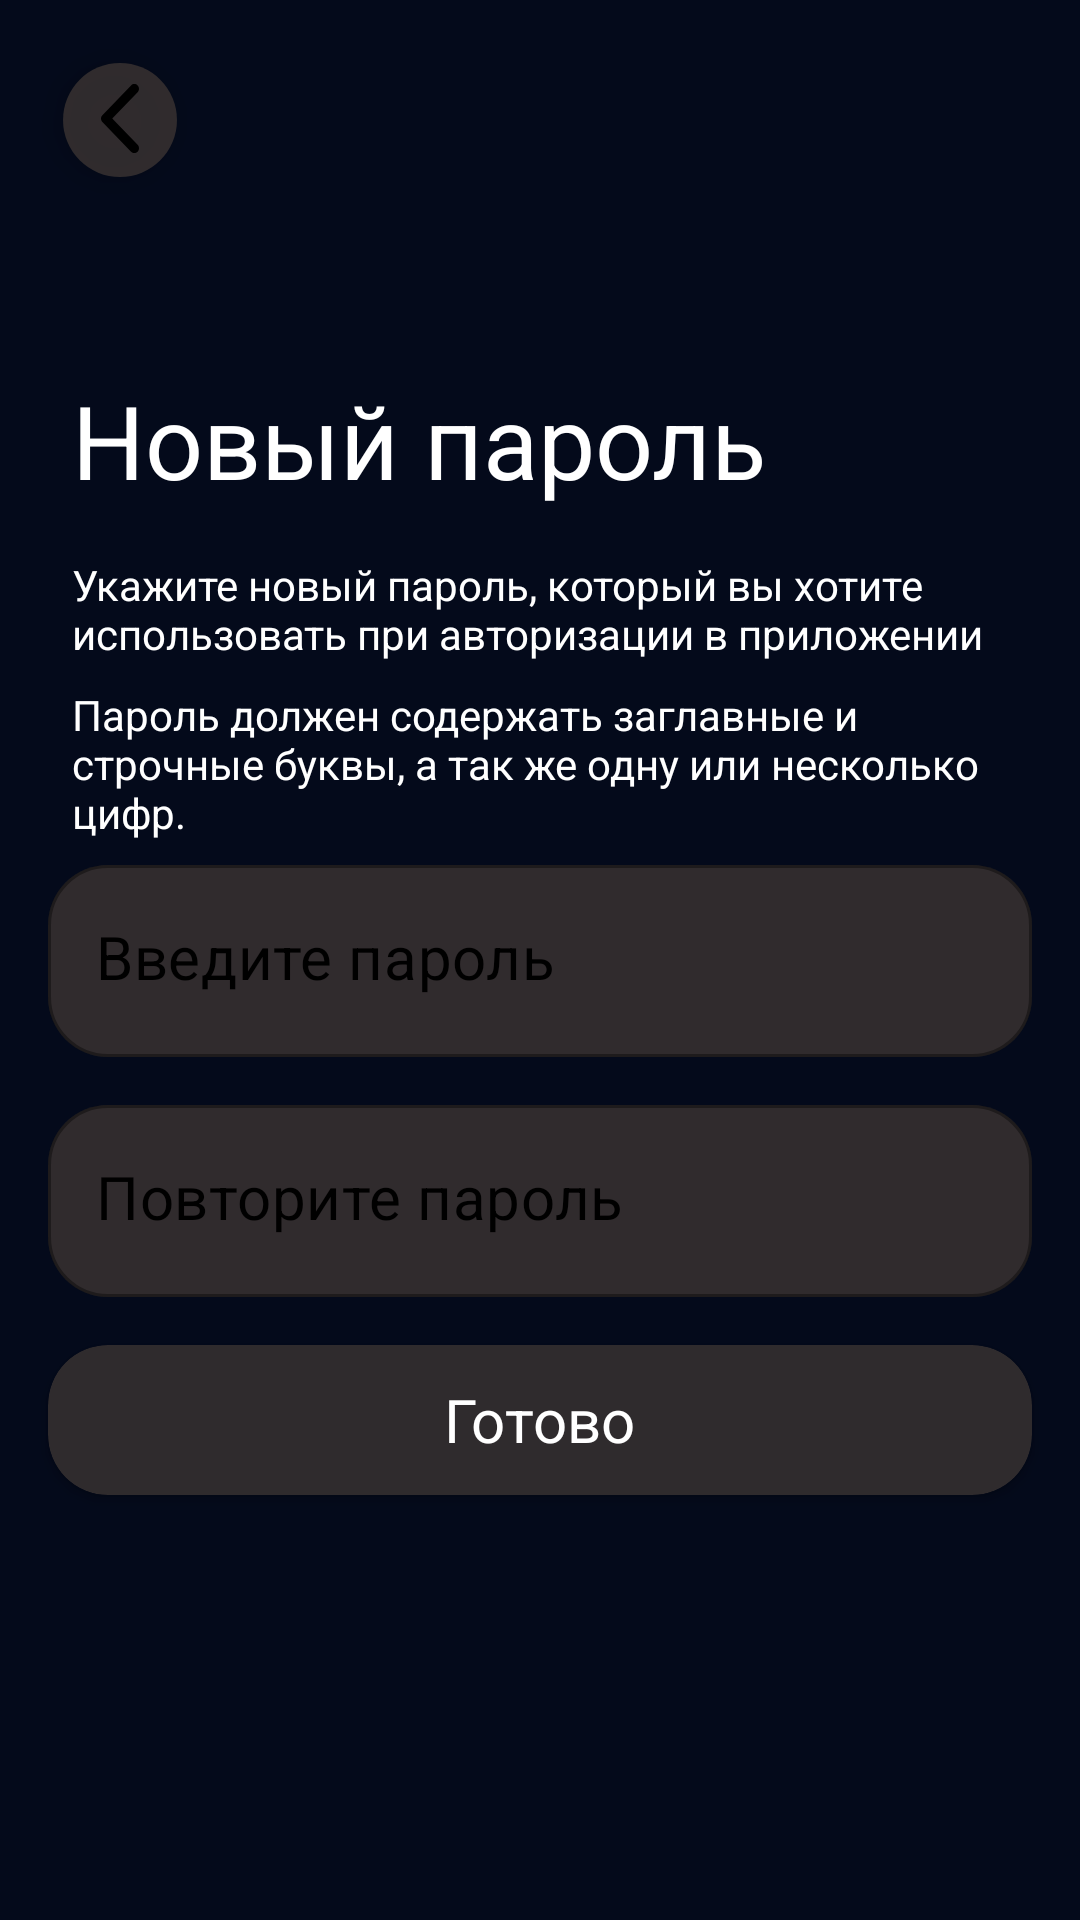

Icons on this 1080×1920 Android screen, each with the point to tap as (x,y):
backpress: (120,120)
